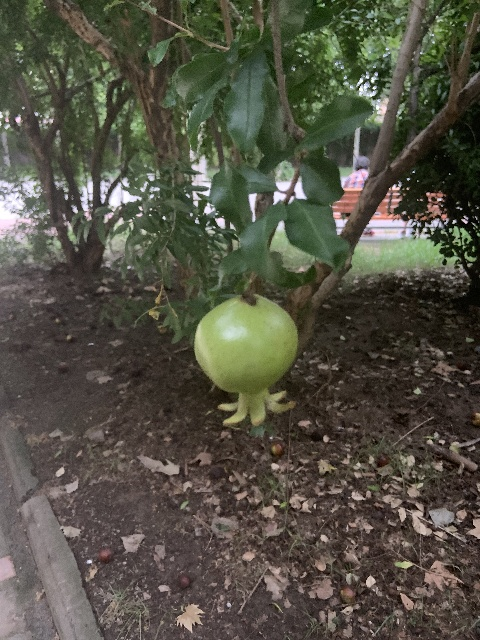mid-growth: (194, 295, 299, 427)
